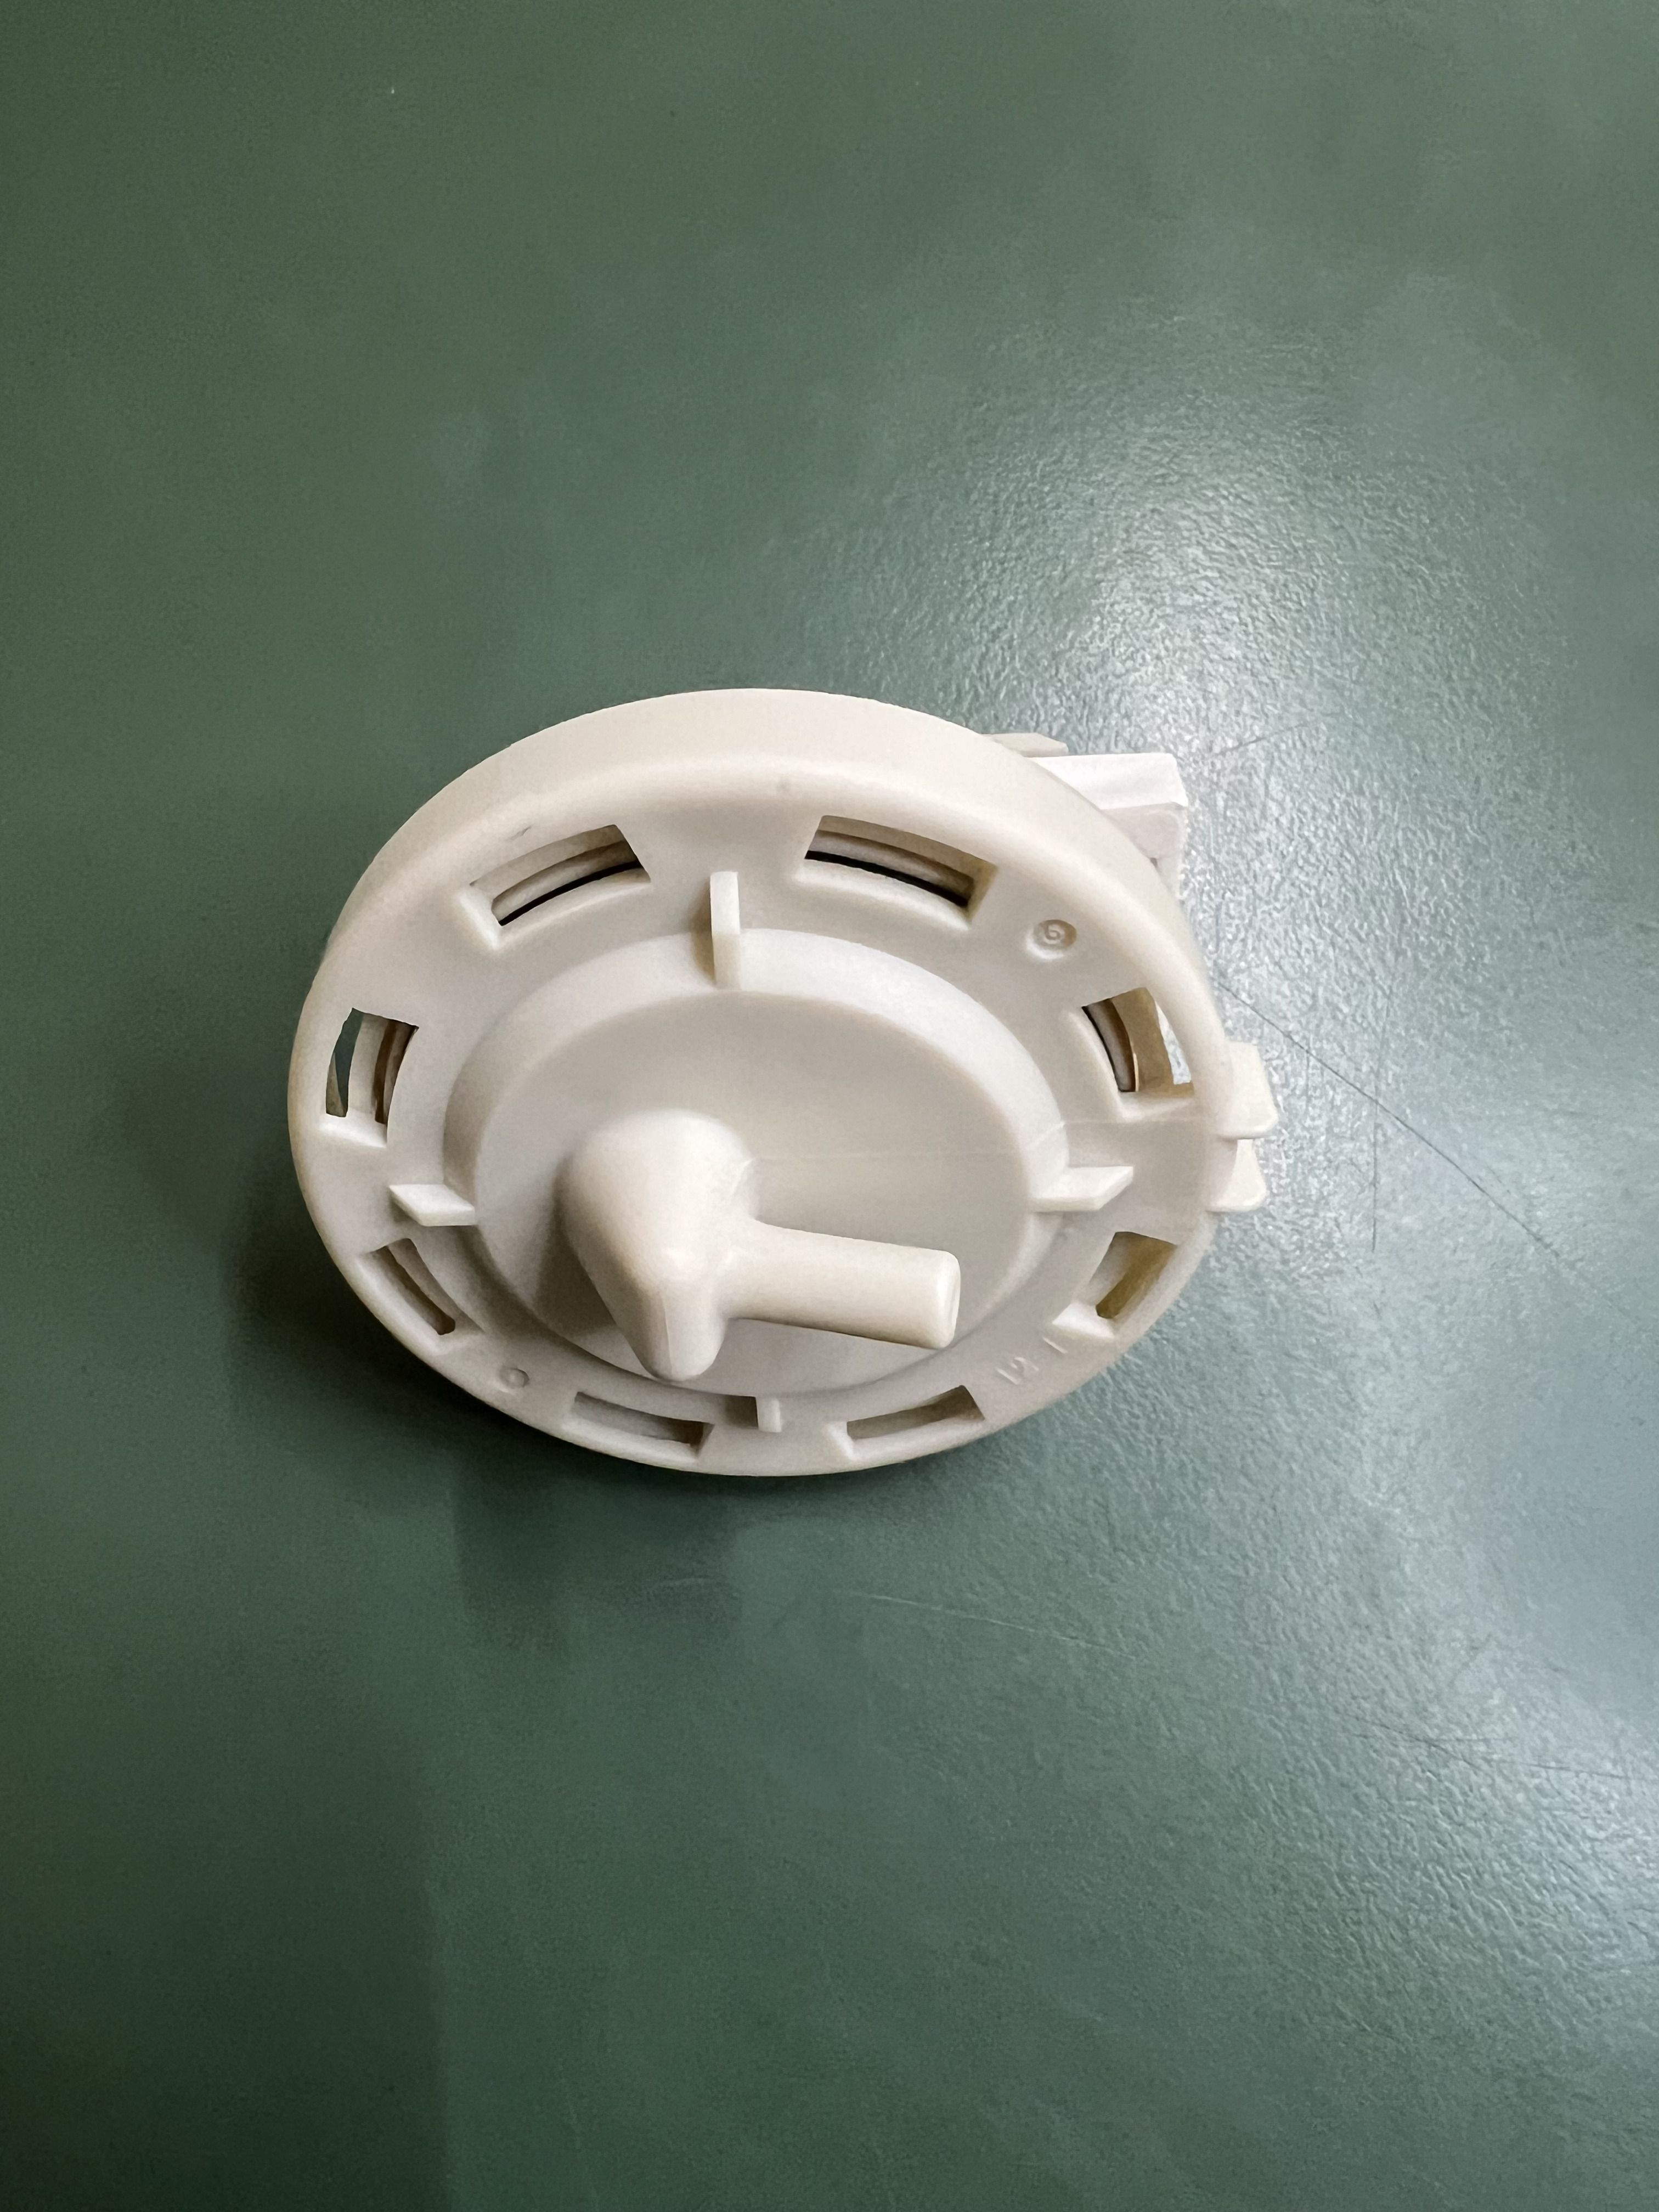pressure_sensor: (223, 686, 1260, 1510)
